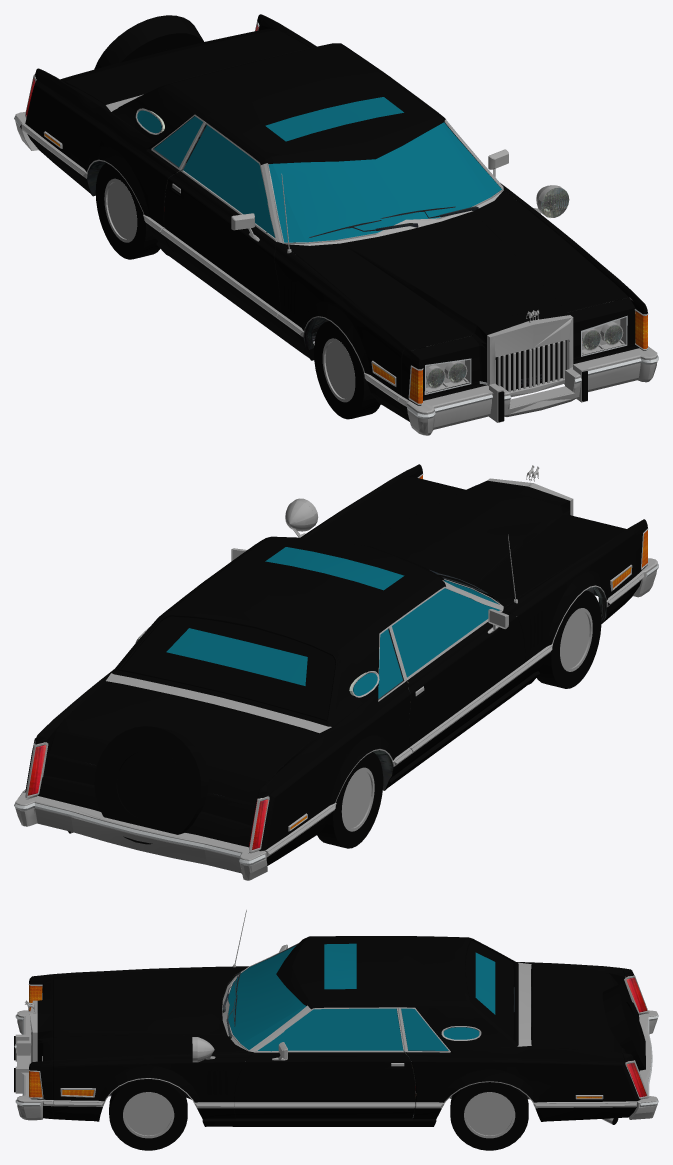
Rendered from car.glb.
The picture shows the model from 3 angles, top to bottom: view 1: azimuth 30°, elevation 25°; view 2: azimuth 150°, elevation 25°; view 3: azimuth 270°, elevation 25°; orthographic projection. The views are drawn at different scales.
Visible parts, largest first — view 1: Sykes CAR; view 2: Sykes CAR; view 3: Sykes CAR.
Boxes of the visible parts, box(x1,y1,x2,y2) form: Sykes CAR: box(14, 14, 658, 435); Sykes CAR: box(14, 464, 658, 880); Sykes CAR: box(14, 910, 658, 1150).
Size of the model in its own units: 2.47 by 1.66 by 6.35.
12 materials, 6 textured.
